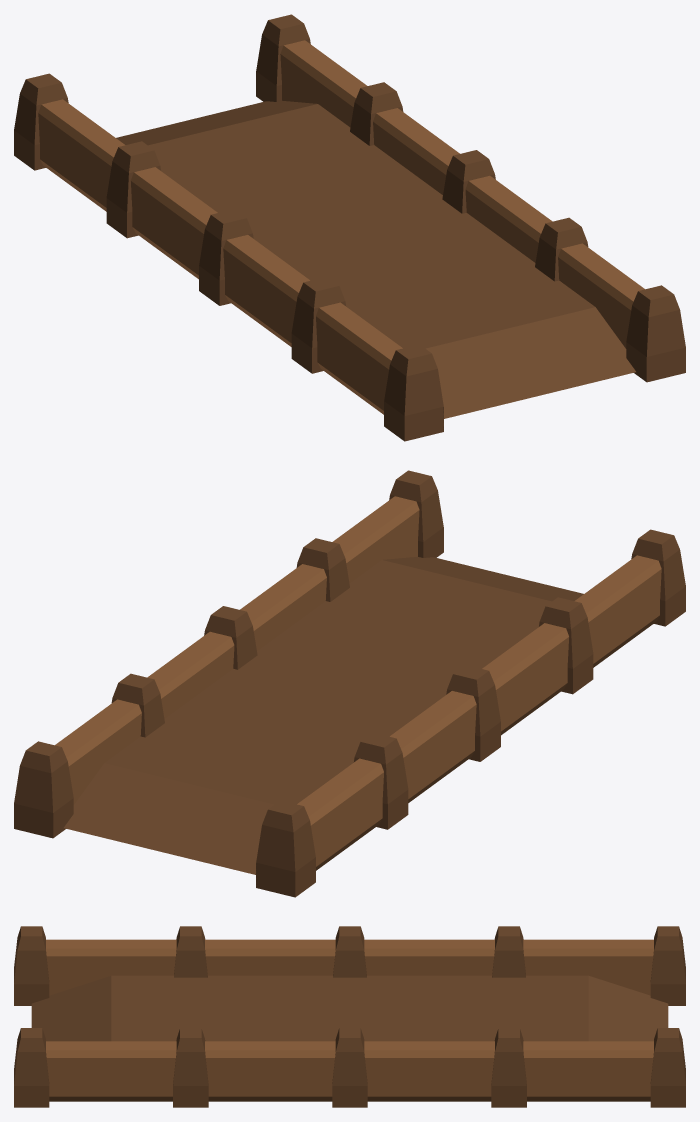
The model's file is Bridge_3_Light_Brown.fbx.
3 renders of one model, top to bottom at view 1: azimuth 30°, elevation 25°; view 2: azimuth 150°, elevation 25°; view 3: azimuth 270°, elevation 25°, orthographic. The views are drawn at different scales.
Visible parts, largest first — view 1: Bridge_3_Light_Brown_Part_1, Bridge_3_Light_Brown_Part_2, Bridge_3_Light_Brown_Part_3; view 2: Bridge_3_Light_Brown_Part_1, Bridge_3_Light_Brown_Part_2, Bridge_3_Light_Brown_Part_3; view 3: Bridge_3_Light_Brown_Part_3, Bridge_3_Light_Brown_Part_1, Bridge_3_Light_Brown_Part_2.
Boxes of the visible parts, <box> form: Bridge_3_Light_Brown_Part_1: <box>116,100,635,418</box>; Bridge_3_Light_Brown_Part_2: <box>14,73,443,441</box>; Bridge_3_Light_Brown_Part_3: <box>256,14,685,382</box>; Bridge_3_Light_Brown_Part_1: <box>64,556,583,874</box>; Bridge_3_Light_Brown_Part_2: <box>256,529,685,897</box>; Bridge_3_Light_Brown_Part_3: <box>14,470,443,838</box>; Bridge_3_Light_Brown_Part_3: <box>14,1028,685,1107</box>; Bridge_3_Light_Brown_Part_1: <box>31,975,668,1041</box>; Bridge_3_Light_Brown_Part_2: <box>14,926,685,1005</box>.
Bounding box in the file's own units: 395 × 104 × 950.
